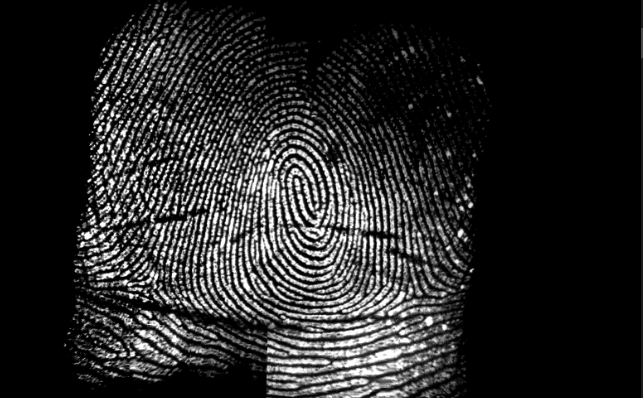nucelo: (282, 167, 317, 222)
verticilo: (395, 274, 426, 305), (136, 269, 161, 296)
